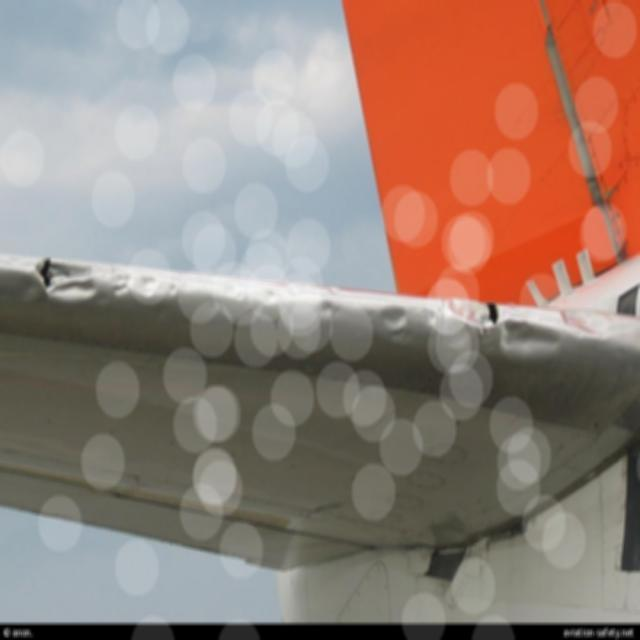dent: (34, 255, 100, 305), (499, 314, 563, 359), (447, 296, 500, 330), (565, 315, 638, 339), (379, 303, 414, 341)
